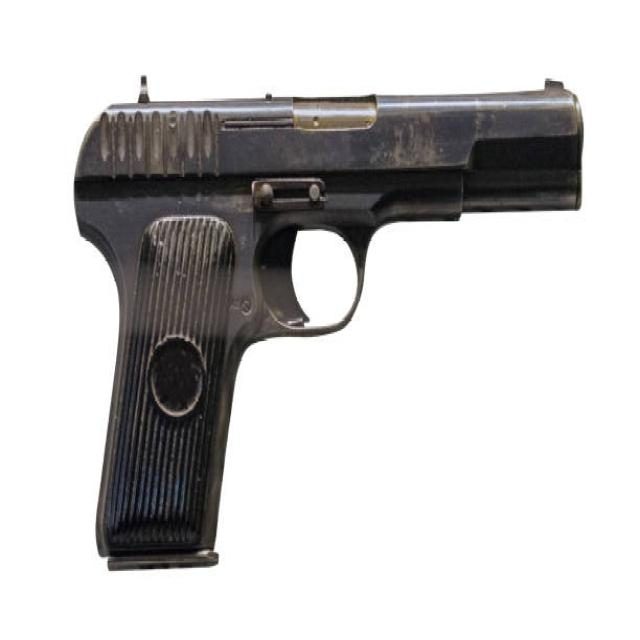pistol: (72, 62, 591, 583)
